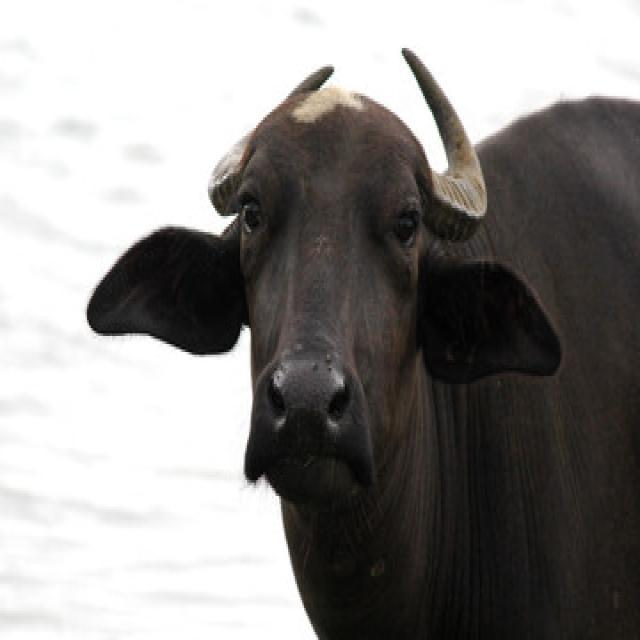Buffalo: (84, 43, 638, 637)
